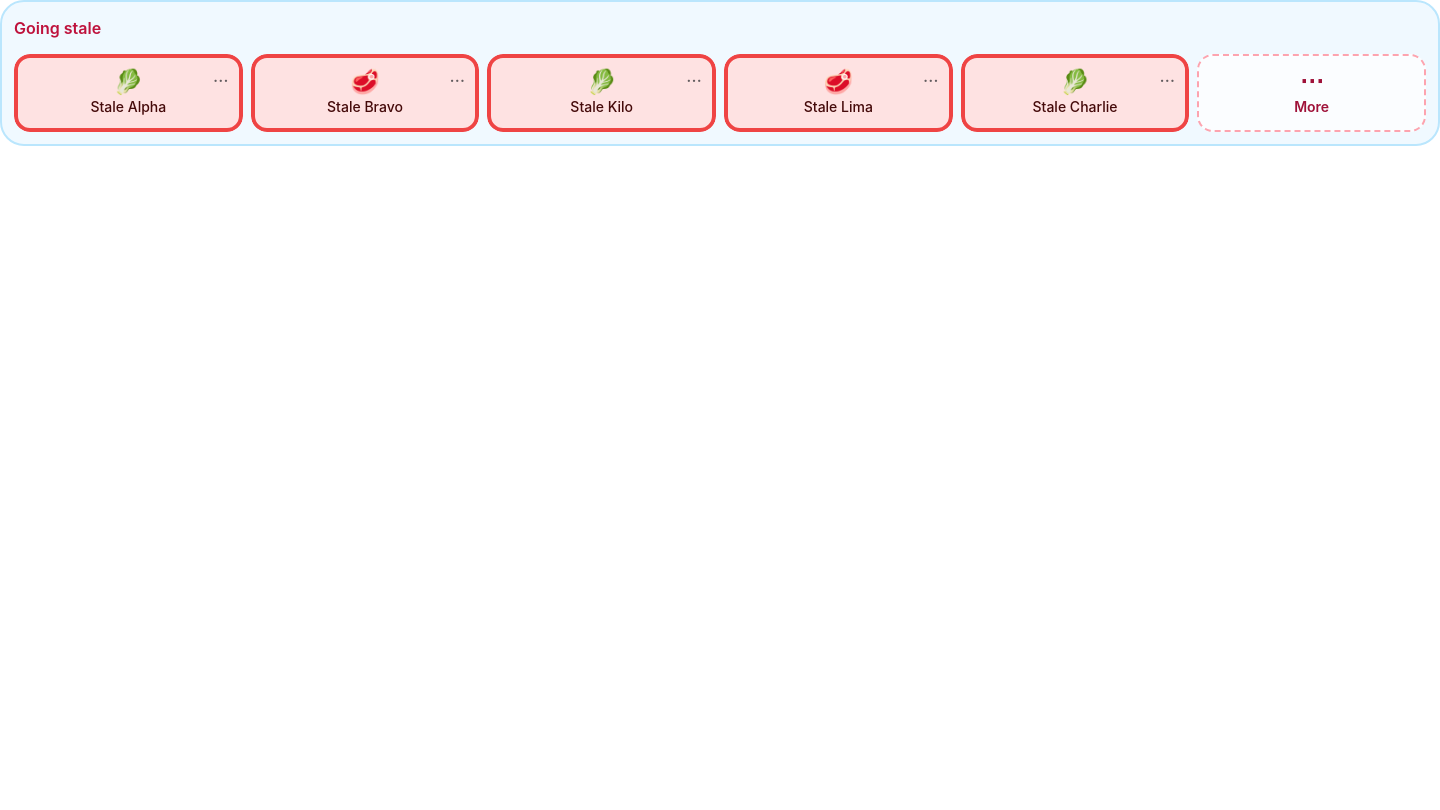
Scenario: FridgeView › shows what fits on the shelf and a more tile for the rest (Q17)
Click the button with aria-label "All going stale": (1312, 93) [1197,54,1426,132]
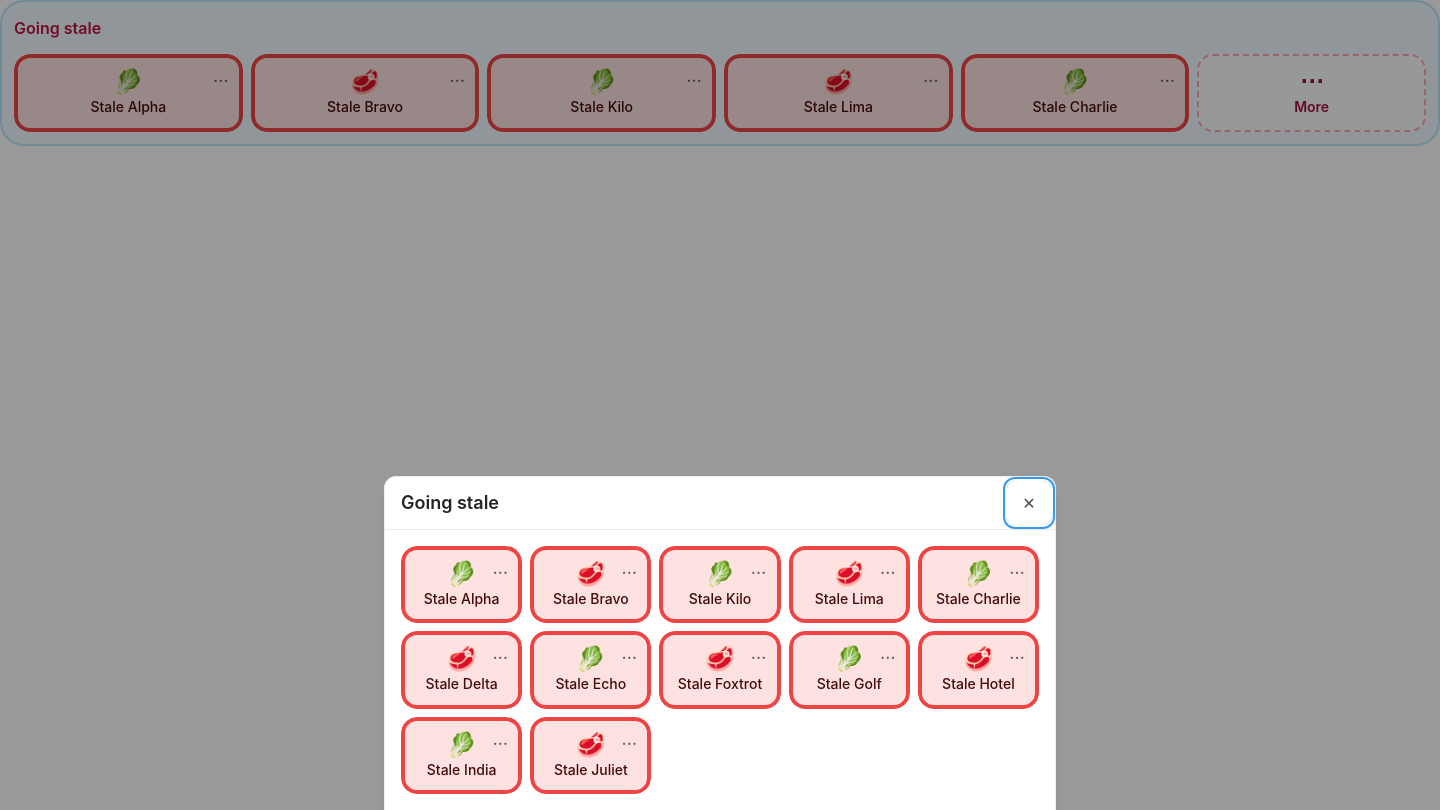
Result: the number of buttons named ", going stale" is 12
